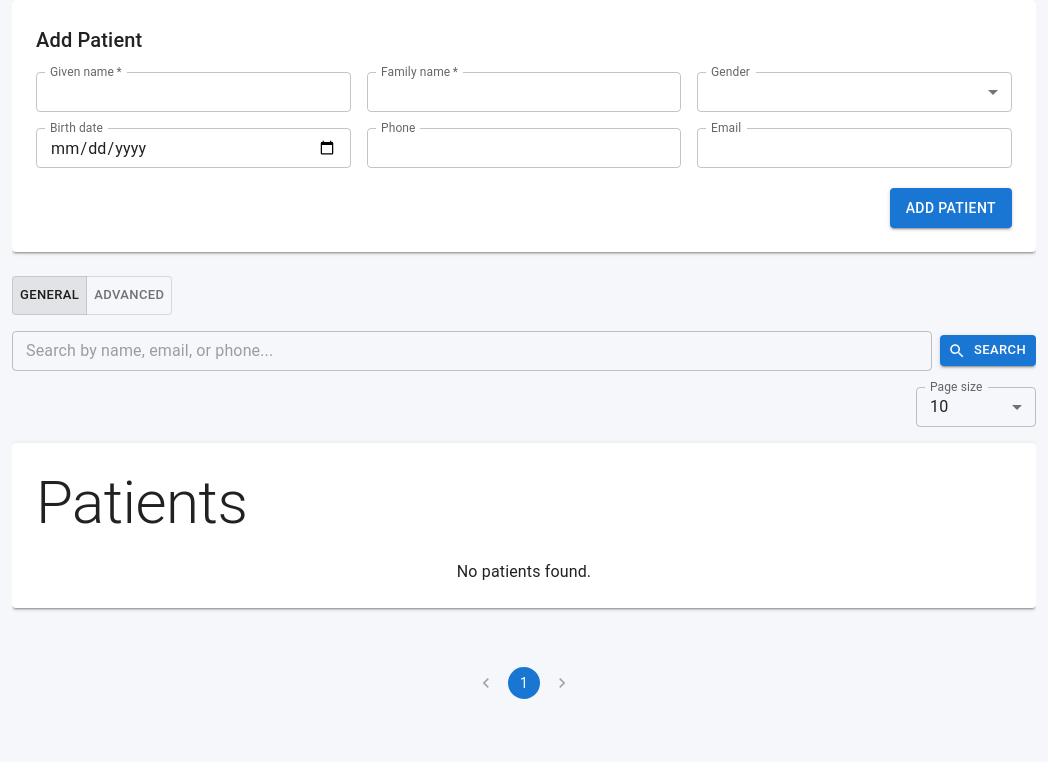
Test: PatientsPage › switches between general and advanced search modes
The width and height of the screenshot is (1048, 762).
Click the button "Advanced". click: (129, 295)
box: [86,276,172,315]
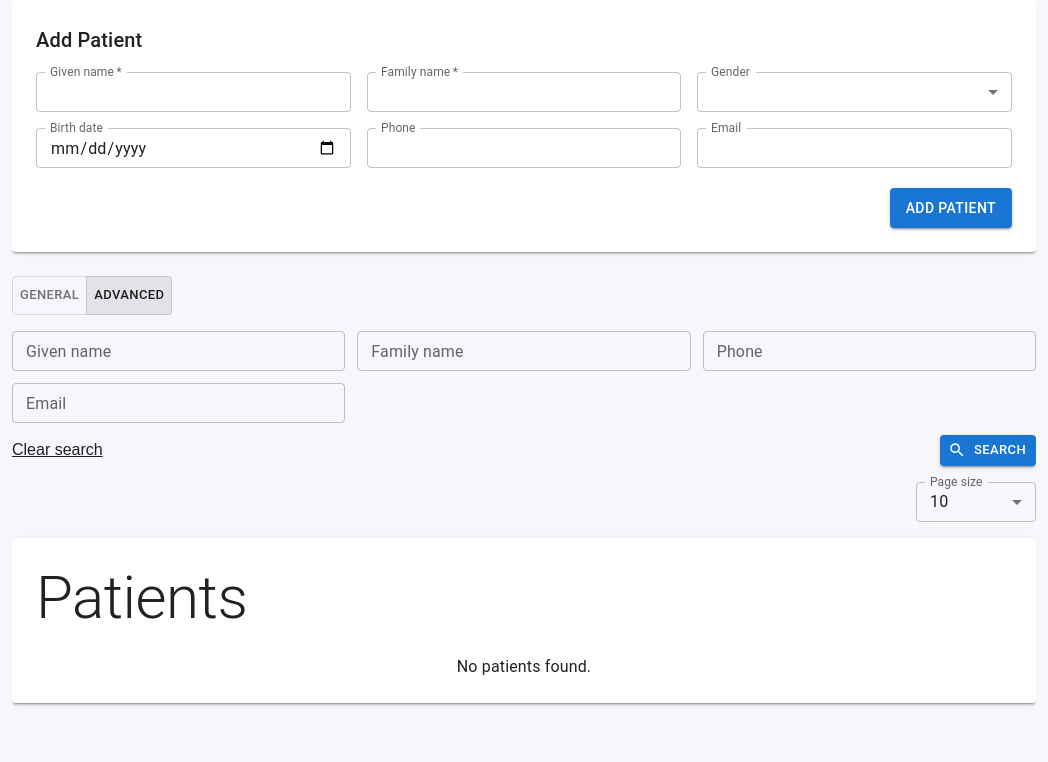
Check: the field labelled "Given name" is shown, box [12,331,345,371]
